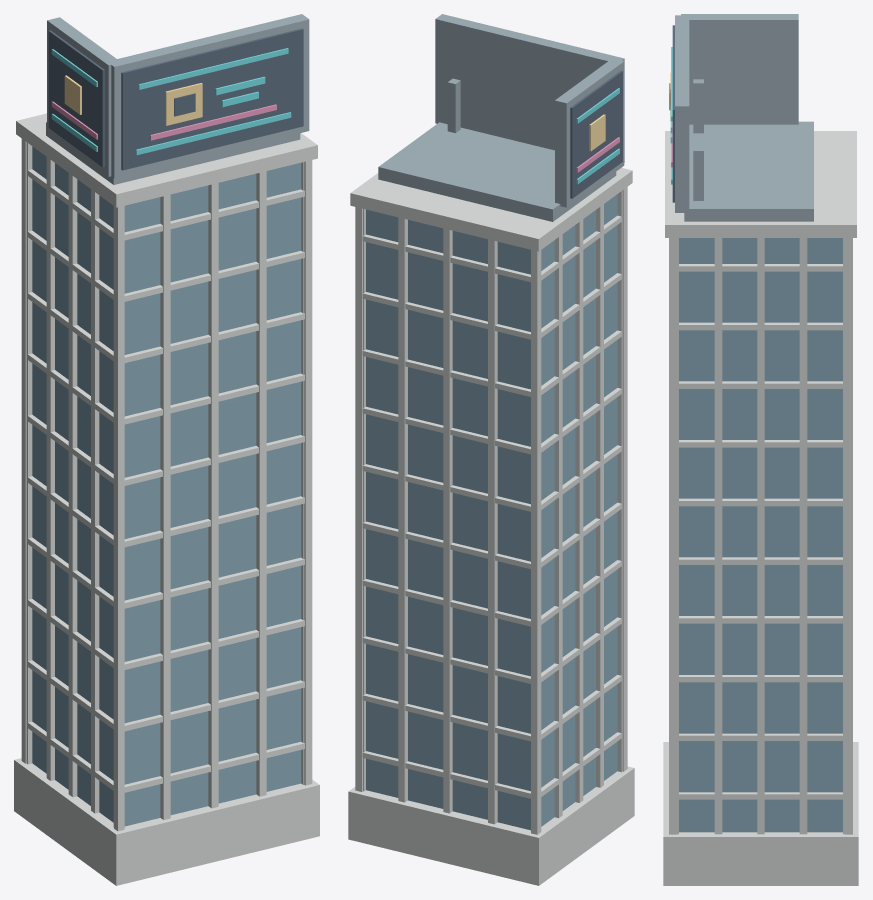
The model's file is sing-ho-finance.glb.
3 renders of one model, left to right at view 1: azimuth 30°, elevation 25°; view 2: azimuth 150°, elevation 25°; view 3: azimuth 270°, elevation 25°, orthographic. The views are drawn at different scales.
Parts seen in each view (by area): view 1: Sing Ho continuous office glazing, Sing Ho stone podium, Sing Ho main display, Sing Ho roof slab, Sing Ho vertical pier, Sing Ho vertical pier.002, Sing Ho vertical pier.006, Sing Ho vertical pier.004, Sing Ho main display housing, Sing Ho side pier.004, Sing Ho vertical pier.008, Sing Ho side pier.002 (+31 smaller); view 2: Sing Ho continuous office glazing, Sing Ho stone podium, Sing Ho main display housing, Sing Ho screen support plinth, Sing Ho roof slab, Sing Ho vertical pier.001, Sing Ho vertical pier.007, Sing Ho vertical pier.005, Sing Ho vertical pier.003, Sing Ho side pier.006, Sing Ho side pier.004, Sing Ho vertical pier.009 (+27 smaller); view 3: Sing Ho continuous office glazing, Sing Ho return display housing, Sing Ho screen support plinth, Sing Ho stone podium, Sing Ho roof slab, Sing Ho side pier.003, Sing Ho side pier.007, Sing Ho vertical pier.008, Sing Ho vertical pier.009, Sing Ho side pier.005, Sing Ho main display housing, Sing Ho side pier.009 (+14 smaller).
Boxes of the visible parts, x1,y1,x2,y2 form: Sing Ho continuous office glazing: (32,146,301,826); Sing Ho stone podium: (14,758,319,885); Sing Ho main display: (121,28,303,170); Sing Ho roof slab: (16,113,317,207); Sing Ho vertical pier: (114,206,124,831); Sing Ho vertical pier.002: (160,194,170,819); Sing Ho vertical pier.006: (256,171,266,796); Sing Ho vertical pier.004: (208,183,218,808); Sing Ho main display housing: (107,14,309,178); Sing Ho side pier.004: (68,173,77,797); Sing Ho vertical pier.008: (304,160,312,785); Sing Ho side pier.002: (91,189,99,813); Sing Ho continuous office glazing: (366,194,617,830); Sing Ho stone podium: (348,766,634,885); Sing Ho main display housing: (435,14,624,162); Sing Ho screen support plinth: (378,122,616,221); Sing Ho roof slab: (350,167,632,251); Sing Ho vertical pier.001: (531,250,541,834); Sing Ho vertical pier.007: (398,217,407,802); Sing Ho vertical pier.005: (443,228,452,813); Sing Ho vertical pier.003: (488,239,497,824); Sing Ho side pier.006: (554,234,562,818); Sing Ho side pier.004: (575,219,583,802); Sing Ho vertical pier.009: (355,207,362,791); Sing Ho continuous office glazing: (679,238,842,832); Sing Ho return display housing: (681,14,798,124); Sing Ho screen support plinth: (684,121,813,221); Sing Ho stone podium: (663,742,858,885); Sing Ho roof slab: (665,131,856,237); Sing Ho side pier.003: (714,238,722,834); Sing Ho side pier.007: (799,238,807,834); Sing Ho vertical pier.008: (669,238,676,834); Sing Ho vertical pier.009: (845,238,852,834); Sing Ho side pier.005: (757,238,764,834); Sing Ho main display housing: (675,15,689,212); Sing Ho side pier.009: (843,238,845,834).
Size of the model in its own units: 1.93 by 7.29 by 1.66.
